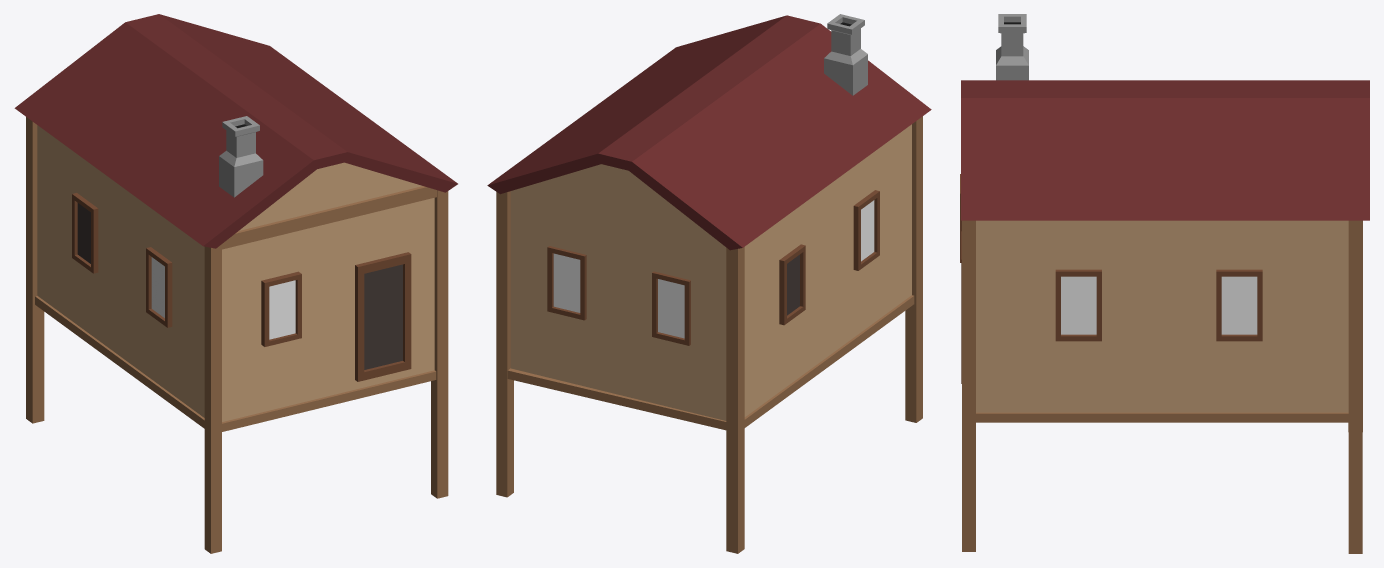
File: M_House_Building_6.fbx
The picture shows the model from 3 angles, left to right: view 1: azimuth 30°, elevation 25°; view 2: azimuth 150°, elevation 25°; view 3: azimuth 270°, elevation 25°; orthographic projection. The views are drawn at different scales.
Parts seen in each view (by area): view 1: M_House_Building_6; view 2: M_House_Building_6; view 3: M_House_Building_6.
Boxes of the visible parts, x1,y1,x2,y2 form: M_House_Building_6: (14,14,457,553); M_House_Building_6: (487,14,931,553); M_House_Building_6: (960,14,1369,553).
Size of the model in its own units: 446 by 668 by 572.
